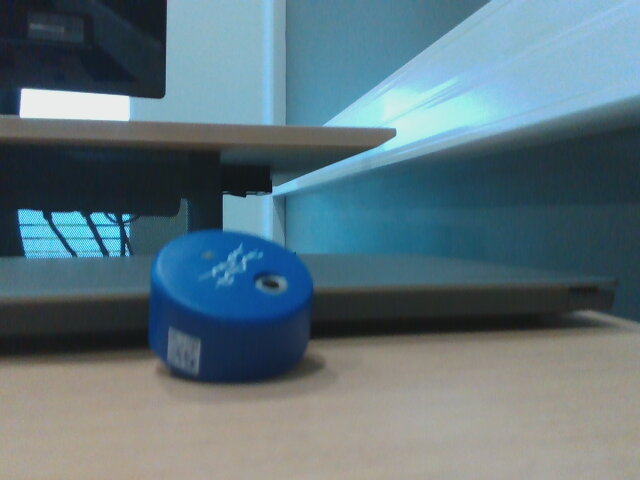alfa: (143, 227, 324, 388)
